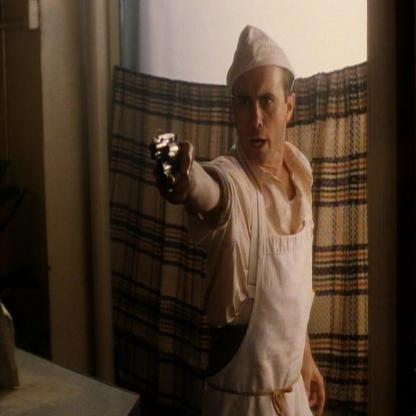gun: (141, 119, 198, 238)
